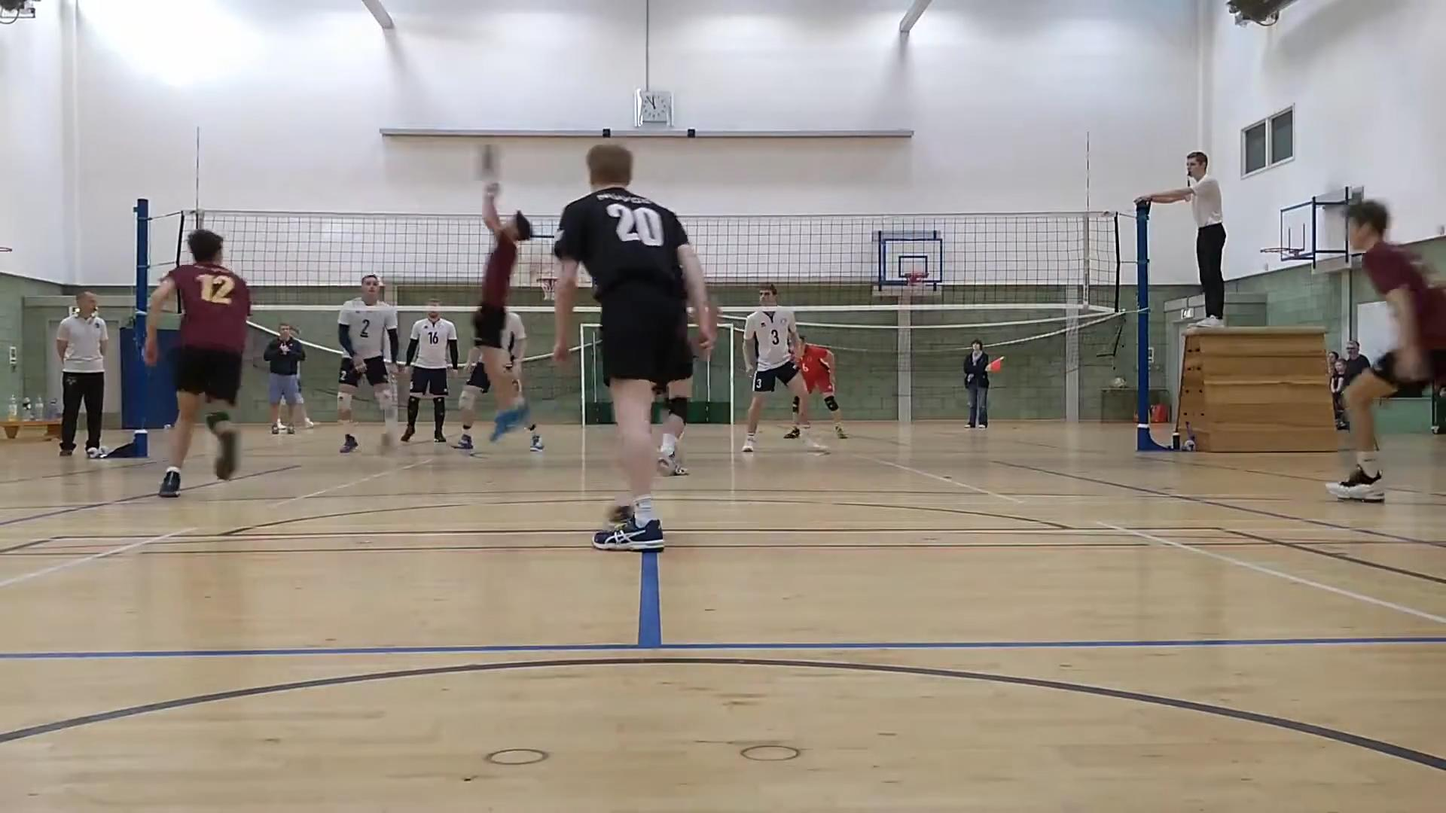Player: (554, 145, 715, 550), (1327, 200, 1445, 501), (149, 230, 251, 497), (742, 283, 822, 452), (338, 274, 399, 452), (401, 300, 459, 442), (795, 333, 846, 439), (454, 345, 491, 450), (654, 375, 691, 476), (655, 376, 691, 476)
Set: (470, 174, 538, 443)
